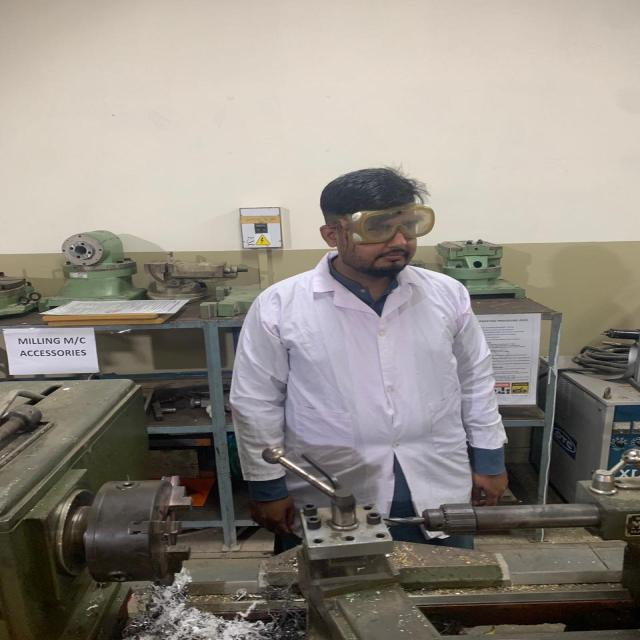googles: (350, 203, 438, 245)
labcoat: (224, 248, 509, 542)
